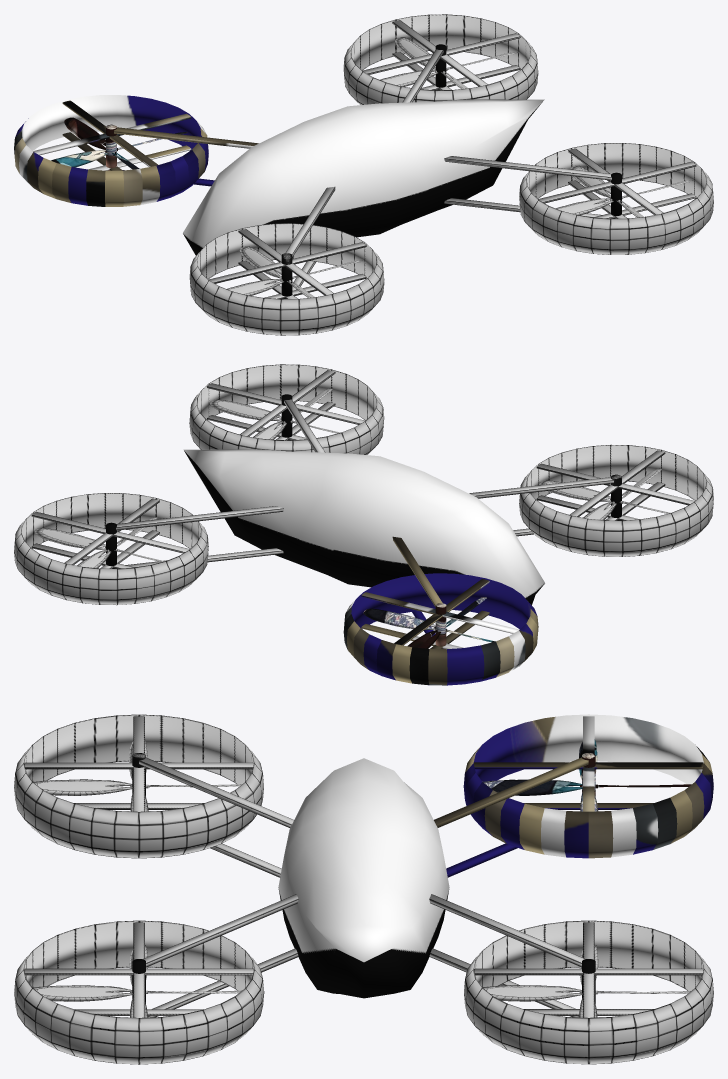
File: dolone.gltf
The picture shows the model from 3 angles, top to bottom: view 1: azimuth 30°, elevation 25°; view 2: azimuth 150°, elevation 25°; view 3: azimuth 270°, elevation 25°; orthographic projection. The views are drawn at different scales.
Parts seen in each view (by area): view 1: 球.016, 球.002, 球.007, 球.024, 球.037; view 2: 球.016, 球.007, 球.037, 球.024, 球.002; view 3: 球.016, 球.024, 球.037, 球.002, 球.007.
Boxes of the visible parts, x1,y1,x2,y2 form: 球.016: (14, 14, 713, 335); 球.002: (227, 246, 362, 298); 球.007: (51, 117, 187, 170); 球.024: (556, 165, 692, 218); 球.037: (380, 37, 517, 90); 球.016: (14, 364, 713, 685); 球.007: (363, 597, 495, 649); 球.037: (34, 516, 164, 568); 球.024: (209, 388, 340, 440); 球.002: (539, 468, 670, 520); 球.016: (14, 714, 713, 1064); 球.024: (32, 945, 241, 1017); 球.037: (482, 945, 690, 1017); 球.002: (33, 740, 241, 811); 球.007: (482, 739, 691, 811).
Bounding box in the file's own units: 17.6 × 3.81 × 16.7.
Materials: 9 (9 with a texture image).
